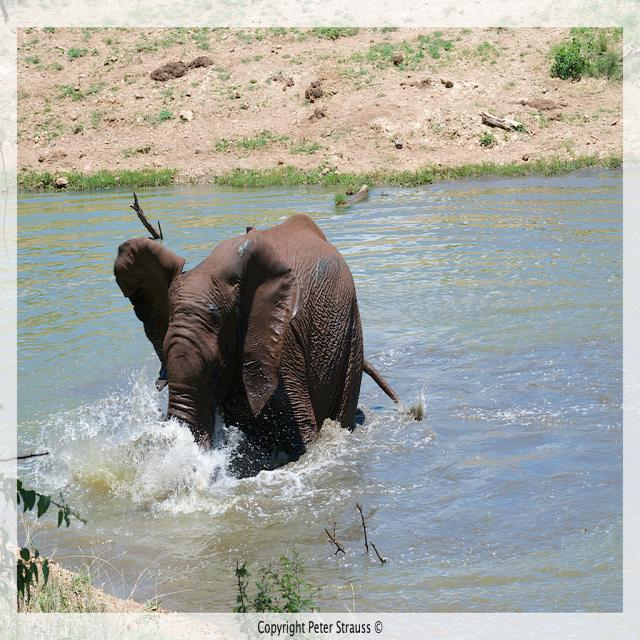elephant: (112, 207, 423, 484)
